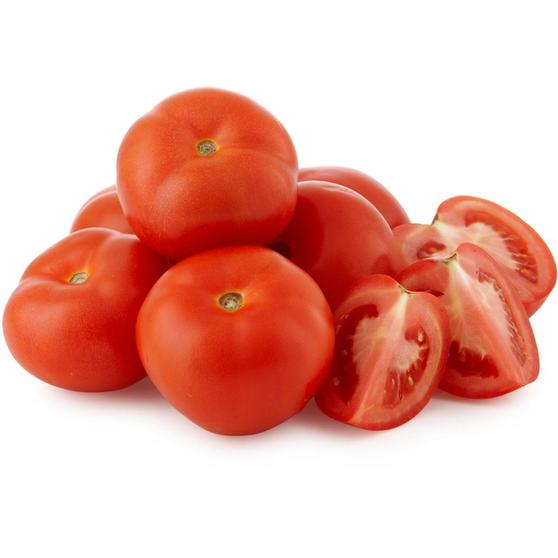tomato: (118, 86, 298, 248)
